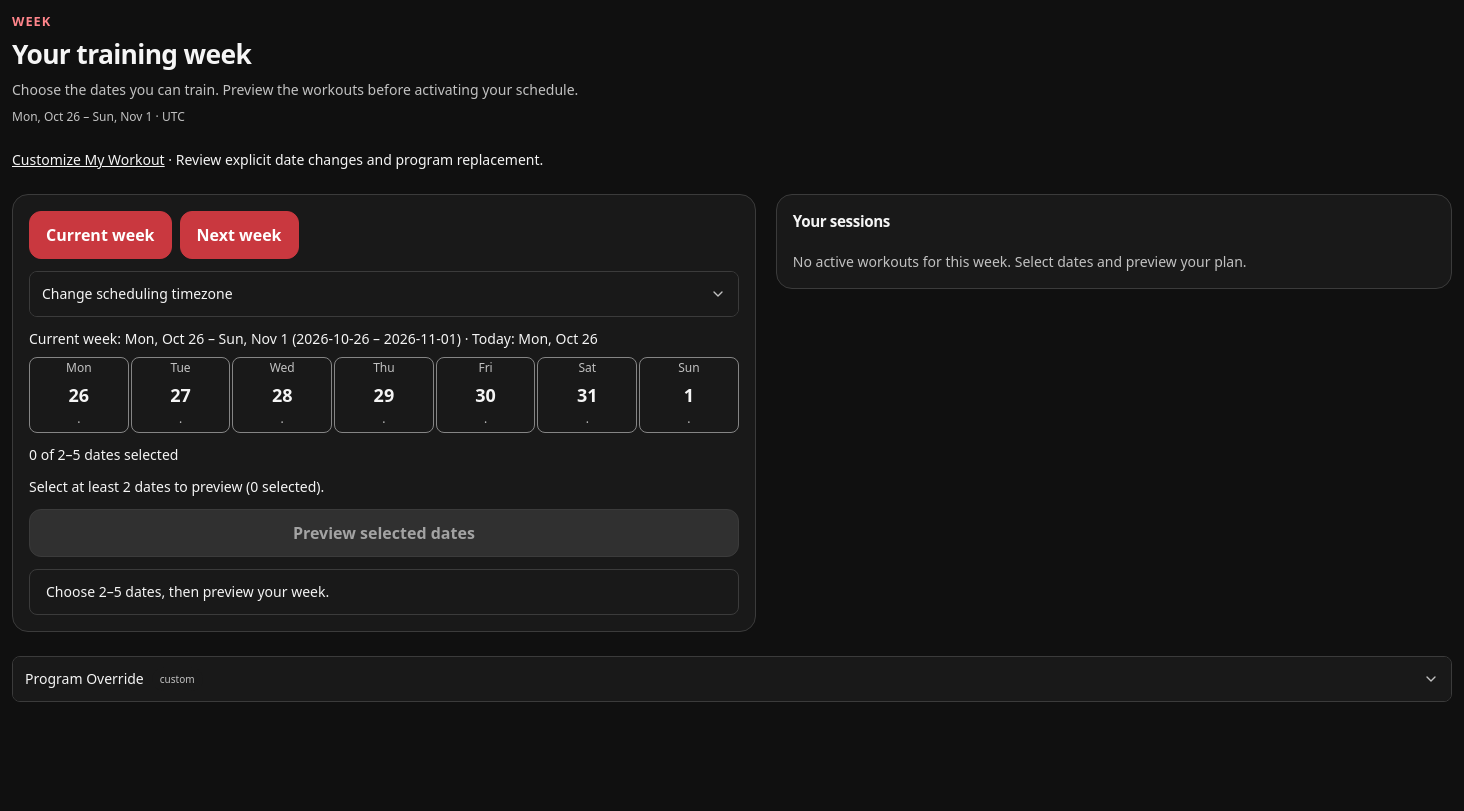
Scenario: 2 dates show successful read-only preview beside the controls
Click the checkbox labelled "Mon 26".
click(79, 395)  # box [29,357,129,433]
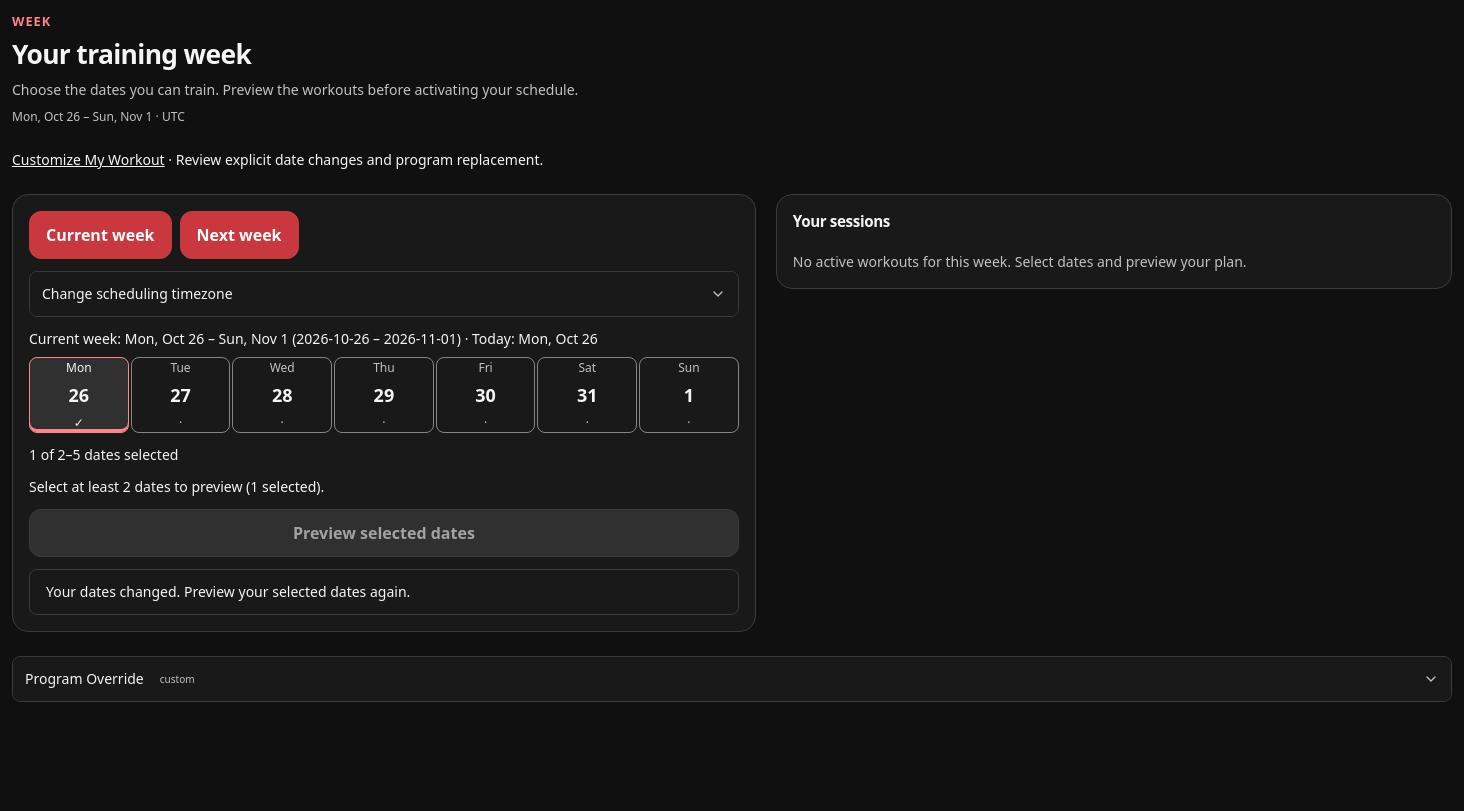
Click the checkbox labelled "Tue 27".
click(181, 395)  # box [131,357,230,433]
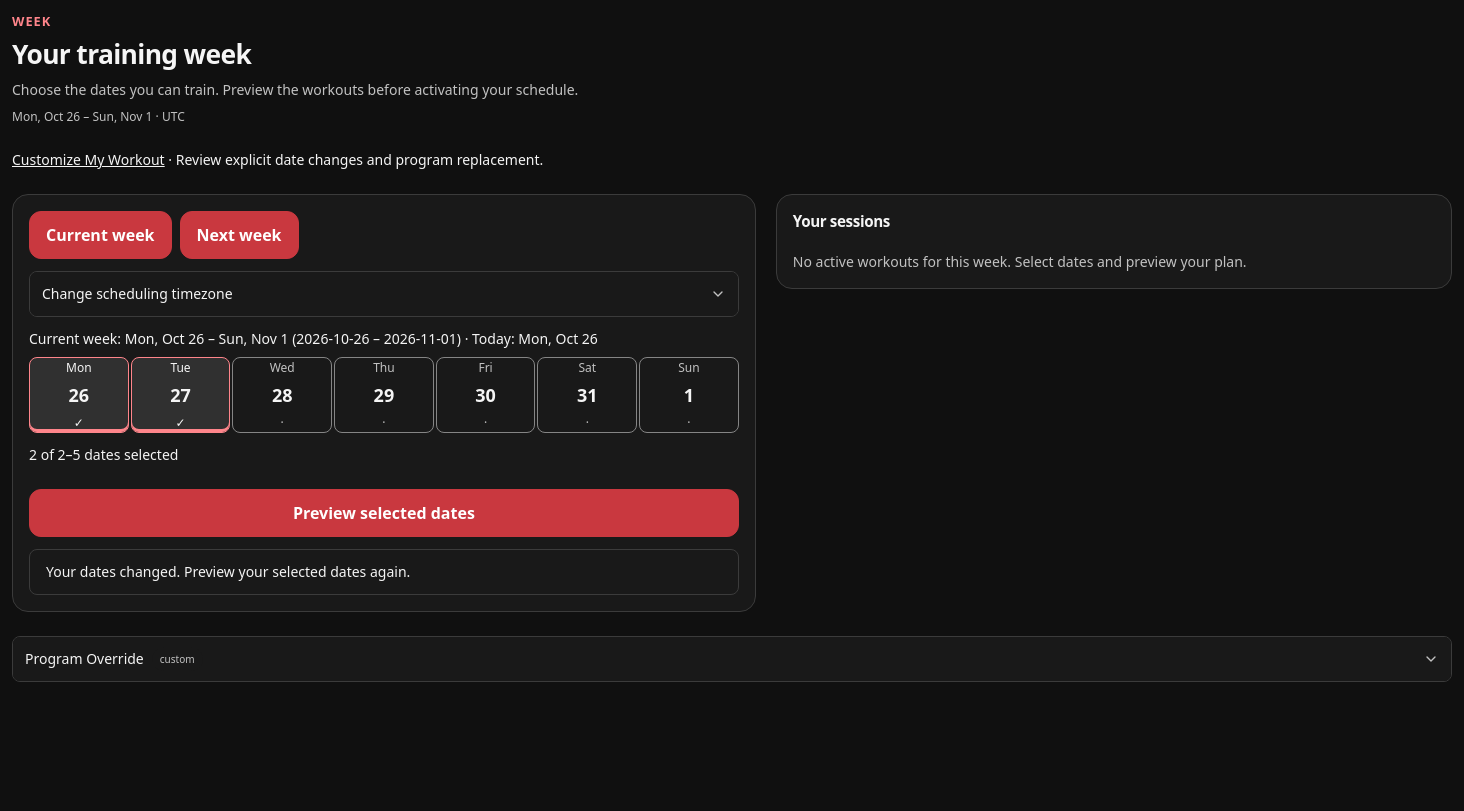
Click the button "Preview selected dates".
click(384, 513)  # box [29,489,739,537]
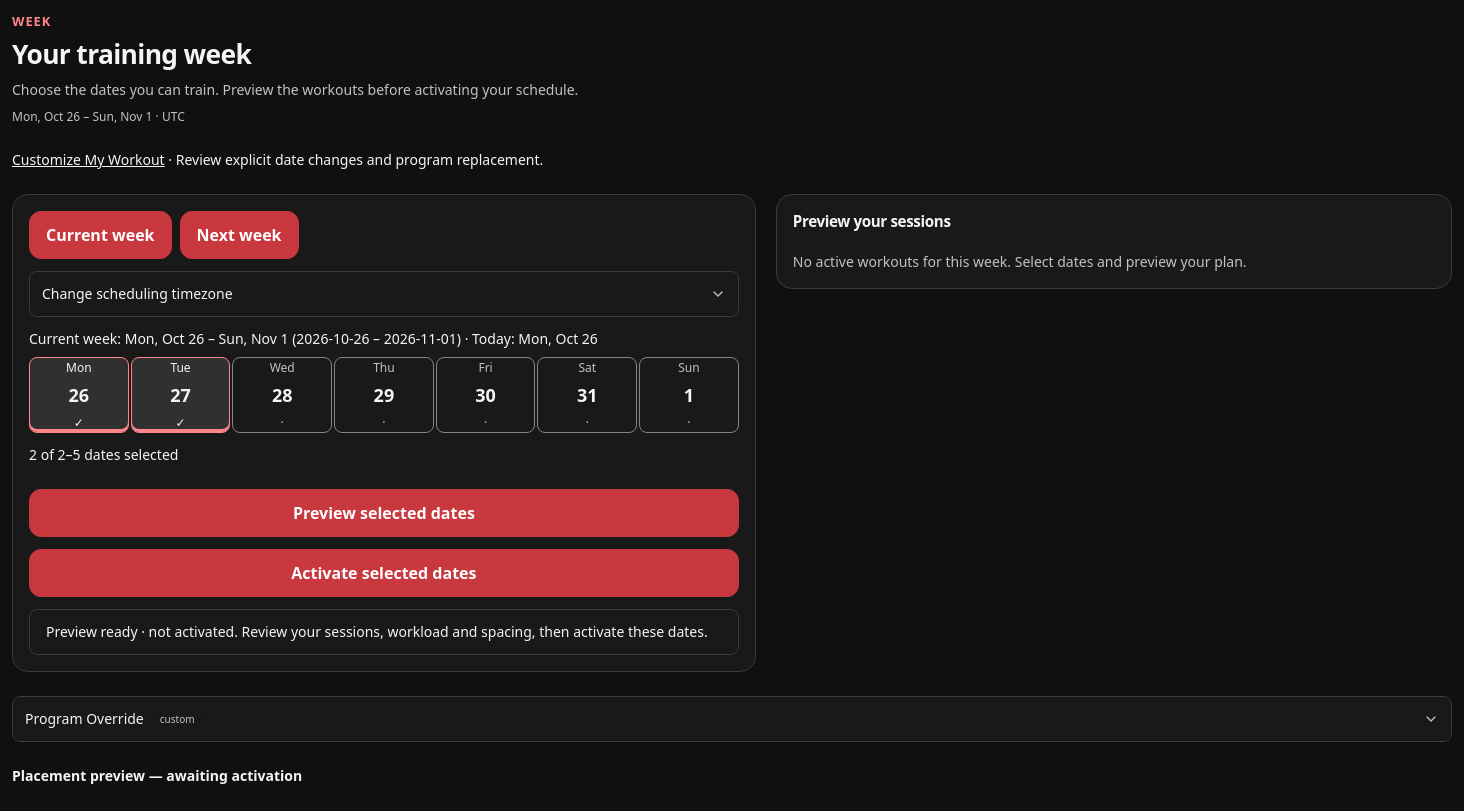
Expected: the button "Activate selected dates" is enabled, [29,549,739,597]
